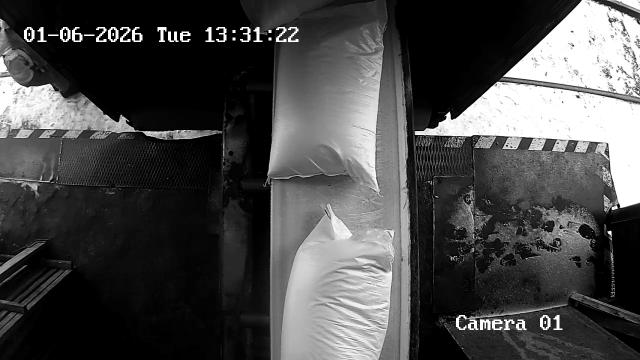bag: (266, 0, 388, 192), (282, 204, 394, 360), (242, 0, 332, 32)
